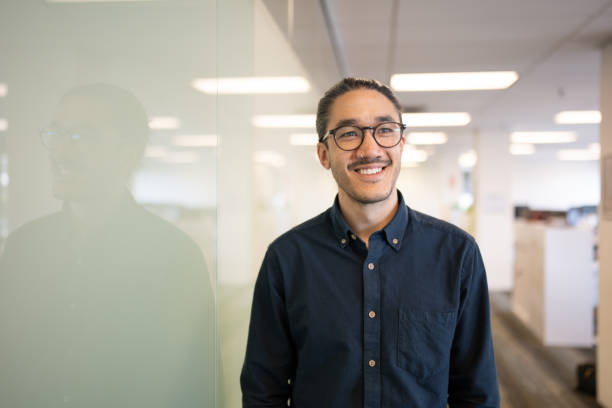Male: (240, 75, 511, 405)
